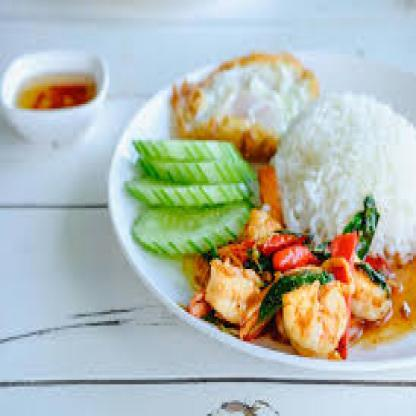Basil Rice: (118, 57, 414, 378)
